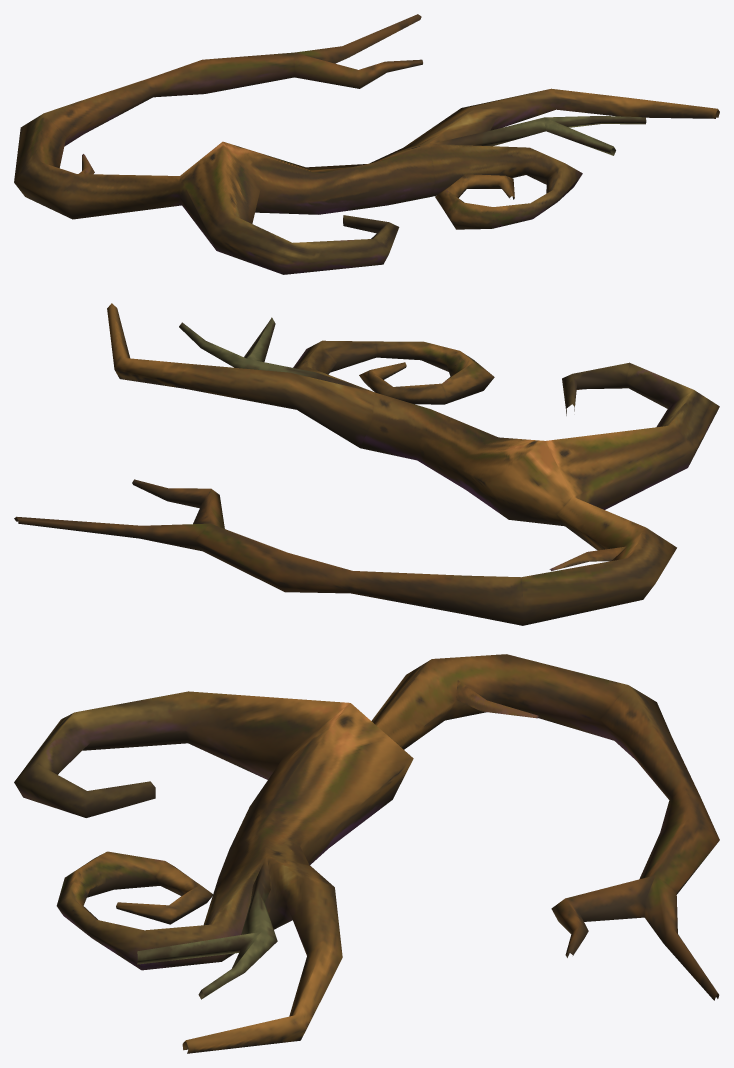
File: timbo.FBX
3 renders of one model, top to bottom at view 1: azimuth 30°, elevation 25°; view 2: azimuth 150°, elevation 25°; view 3: azimuth 270°, elevation 25°, orthographic. The views are drawn at different scales.
Visible parts, largest first — view 1: timbo; view 2: timbo; view 3: timbo.
Part boxes in pixels (x1,y1,x2,y2): timbo: [14, 14, 719, 274]; timbo: [14, 303, 719, 625]; timbo: [14, 654, 719, 1053].
Bounding box in the file's own units: 936 × 697 × 102.
